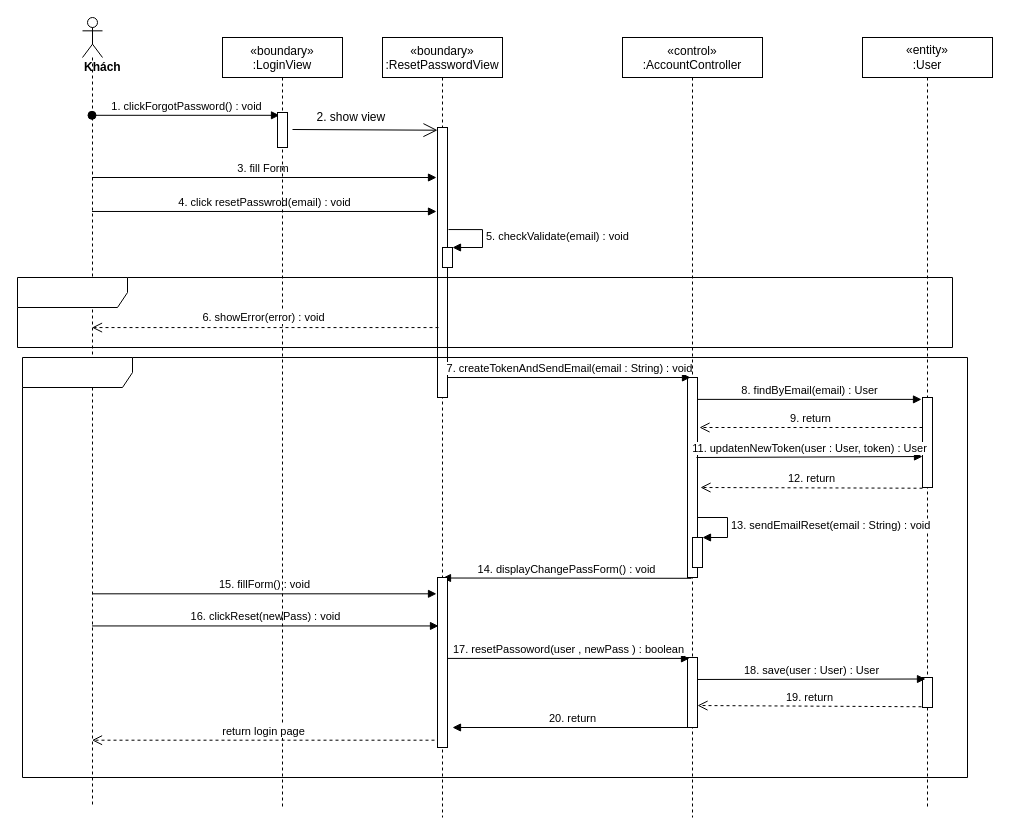
Some shapes in this 1010 by 835 pixel diagram are drawn without their labels. The shapes that lost their labels are listed below. From the top down, each one's centre as x and y in pixels, then its label:
At (484,312): "checkValidate false".
At (495,567): "checkValidate true".
